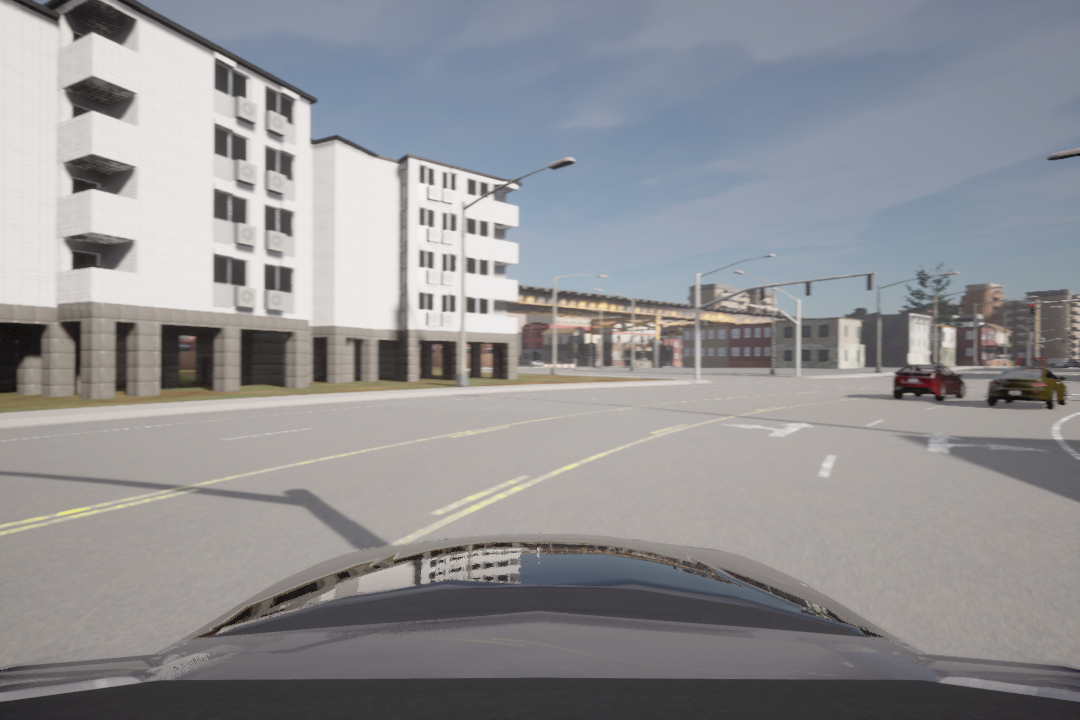RoadSign_forward_left: (721, 416, 817, 444)
RoadSign_forward_right: (915, 427, 1057, 464)
